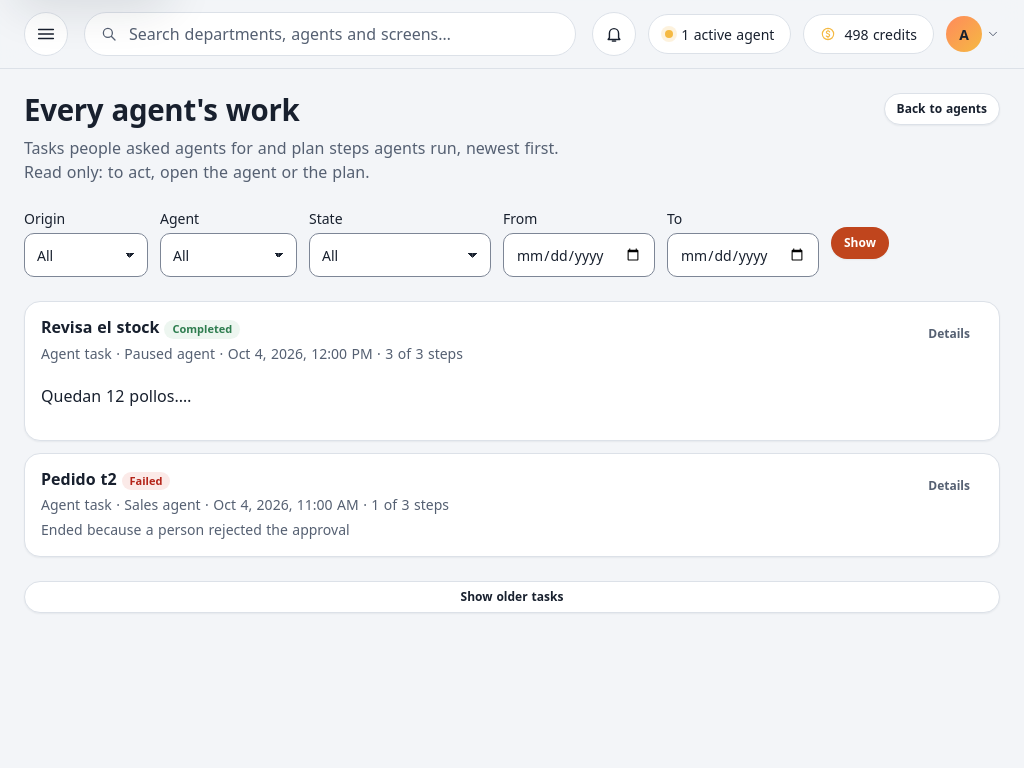
Scenario: Every agent's work (ADR-0148) › pages with the API’s cursor without loading everything
This screenshot has width=1024, height=768.
Expected: the number of list items is 2, [24,301,1000,441]; [24,453,1000,557]
Click the button "Show older tasks".
click(512, 597)  # box [24,581,1000,613]
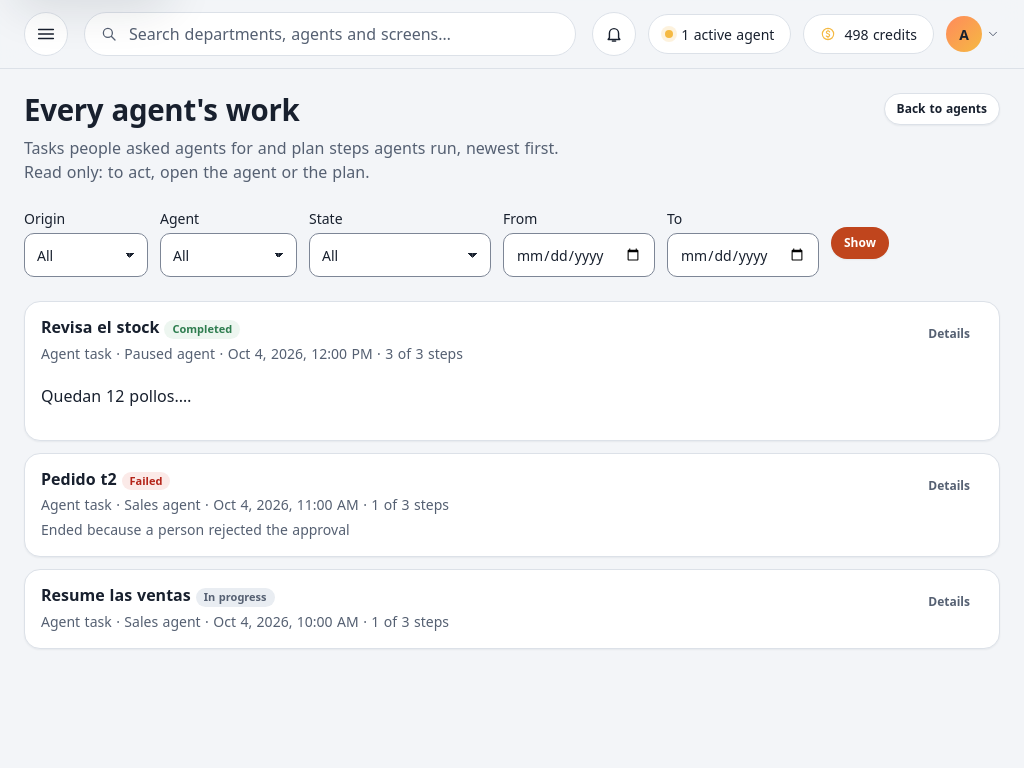
Expected: the text "Resume las ventas" is shown, [41,584,191,606]
Expected: the number of list items is 3, [24,301,1000,441]; [24,453,1000,557]; [24,569,1000,649]
Expected: the button "Show older tasks" is gone
